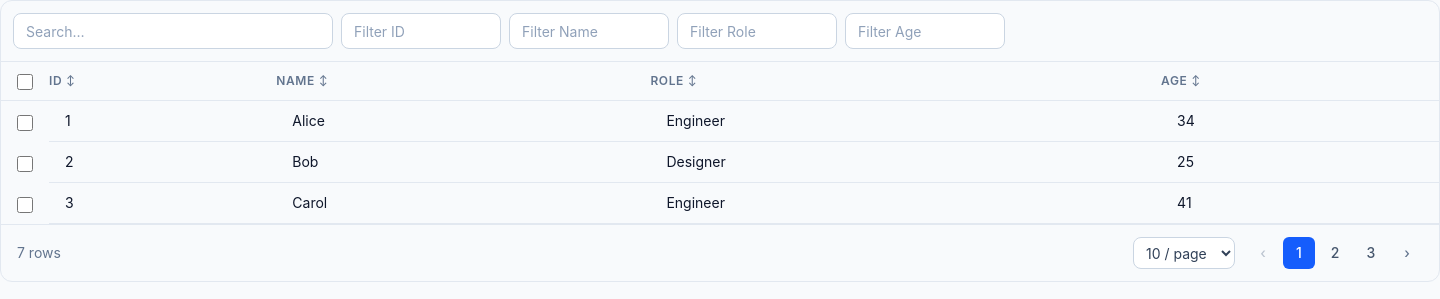
Test case: DataTable › selection › selects all rows on the current page
Click the checkbox named "Select all rows". click: (25, 82)
box: [17, 74, 33, 90]
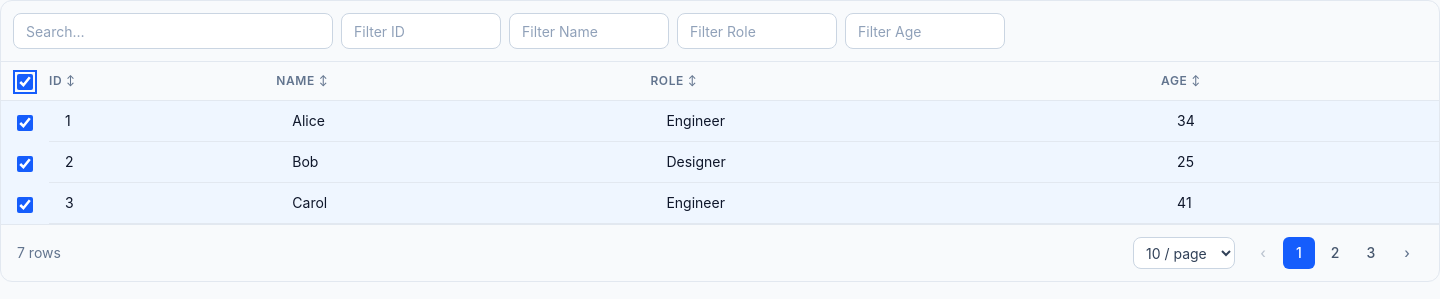
expect the checkbox named "Select Users row 1" is checked: met, box [17, 114, 33, 130]
expect the checkbox named "Select Users row 2" is checked: met, box [17, 156, 33, 172]
expect the checkbox named "Select Users row 3" is checked: met, box [17, 196, 33, 212]
